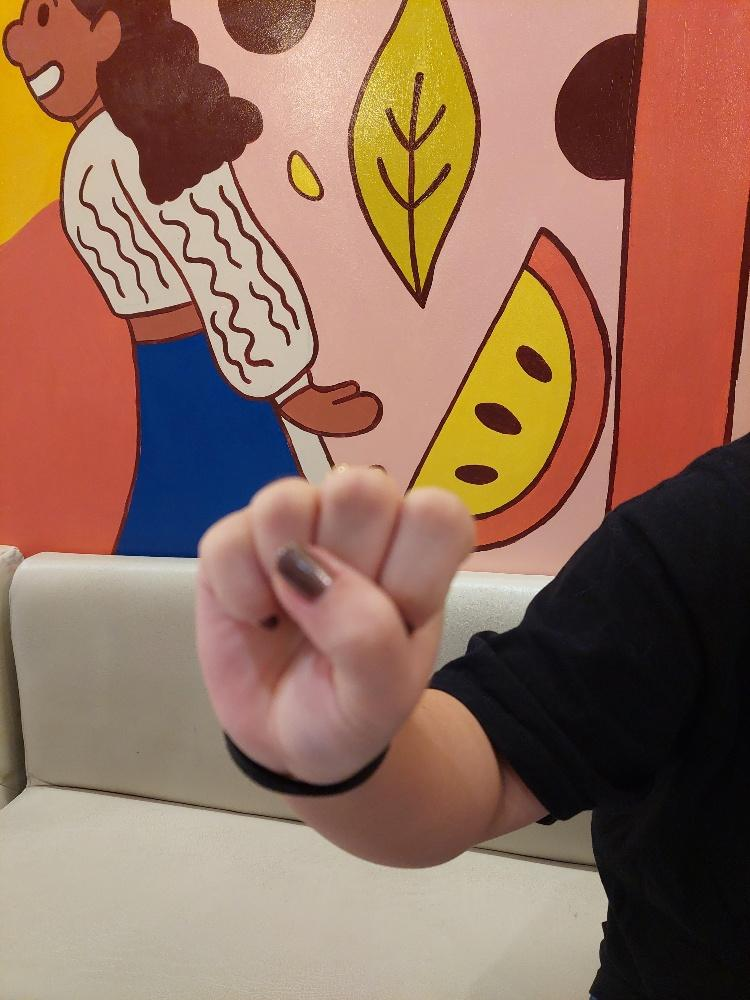s: (190, 458, 476, 780)
